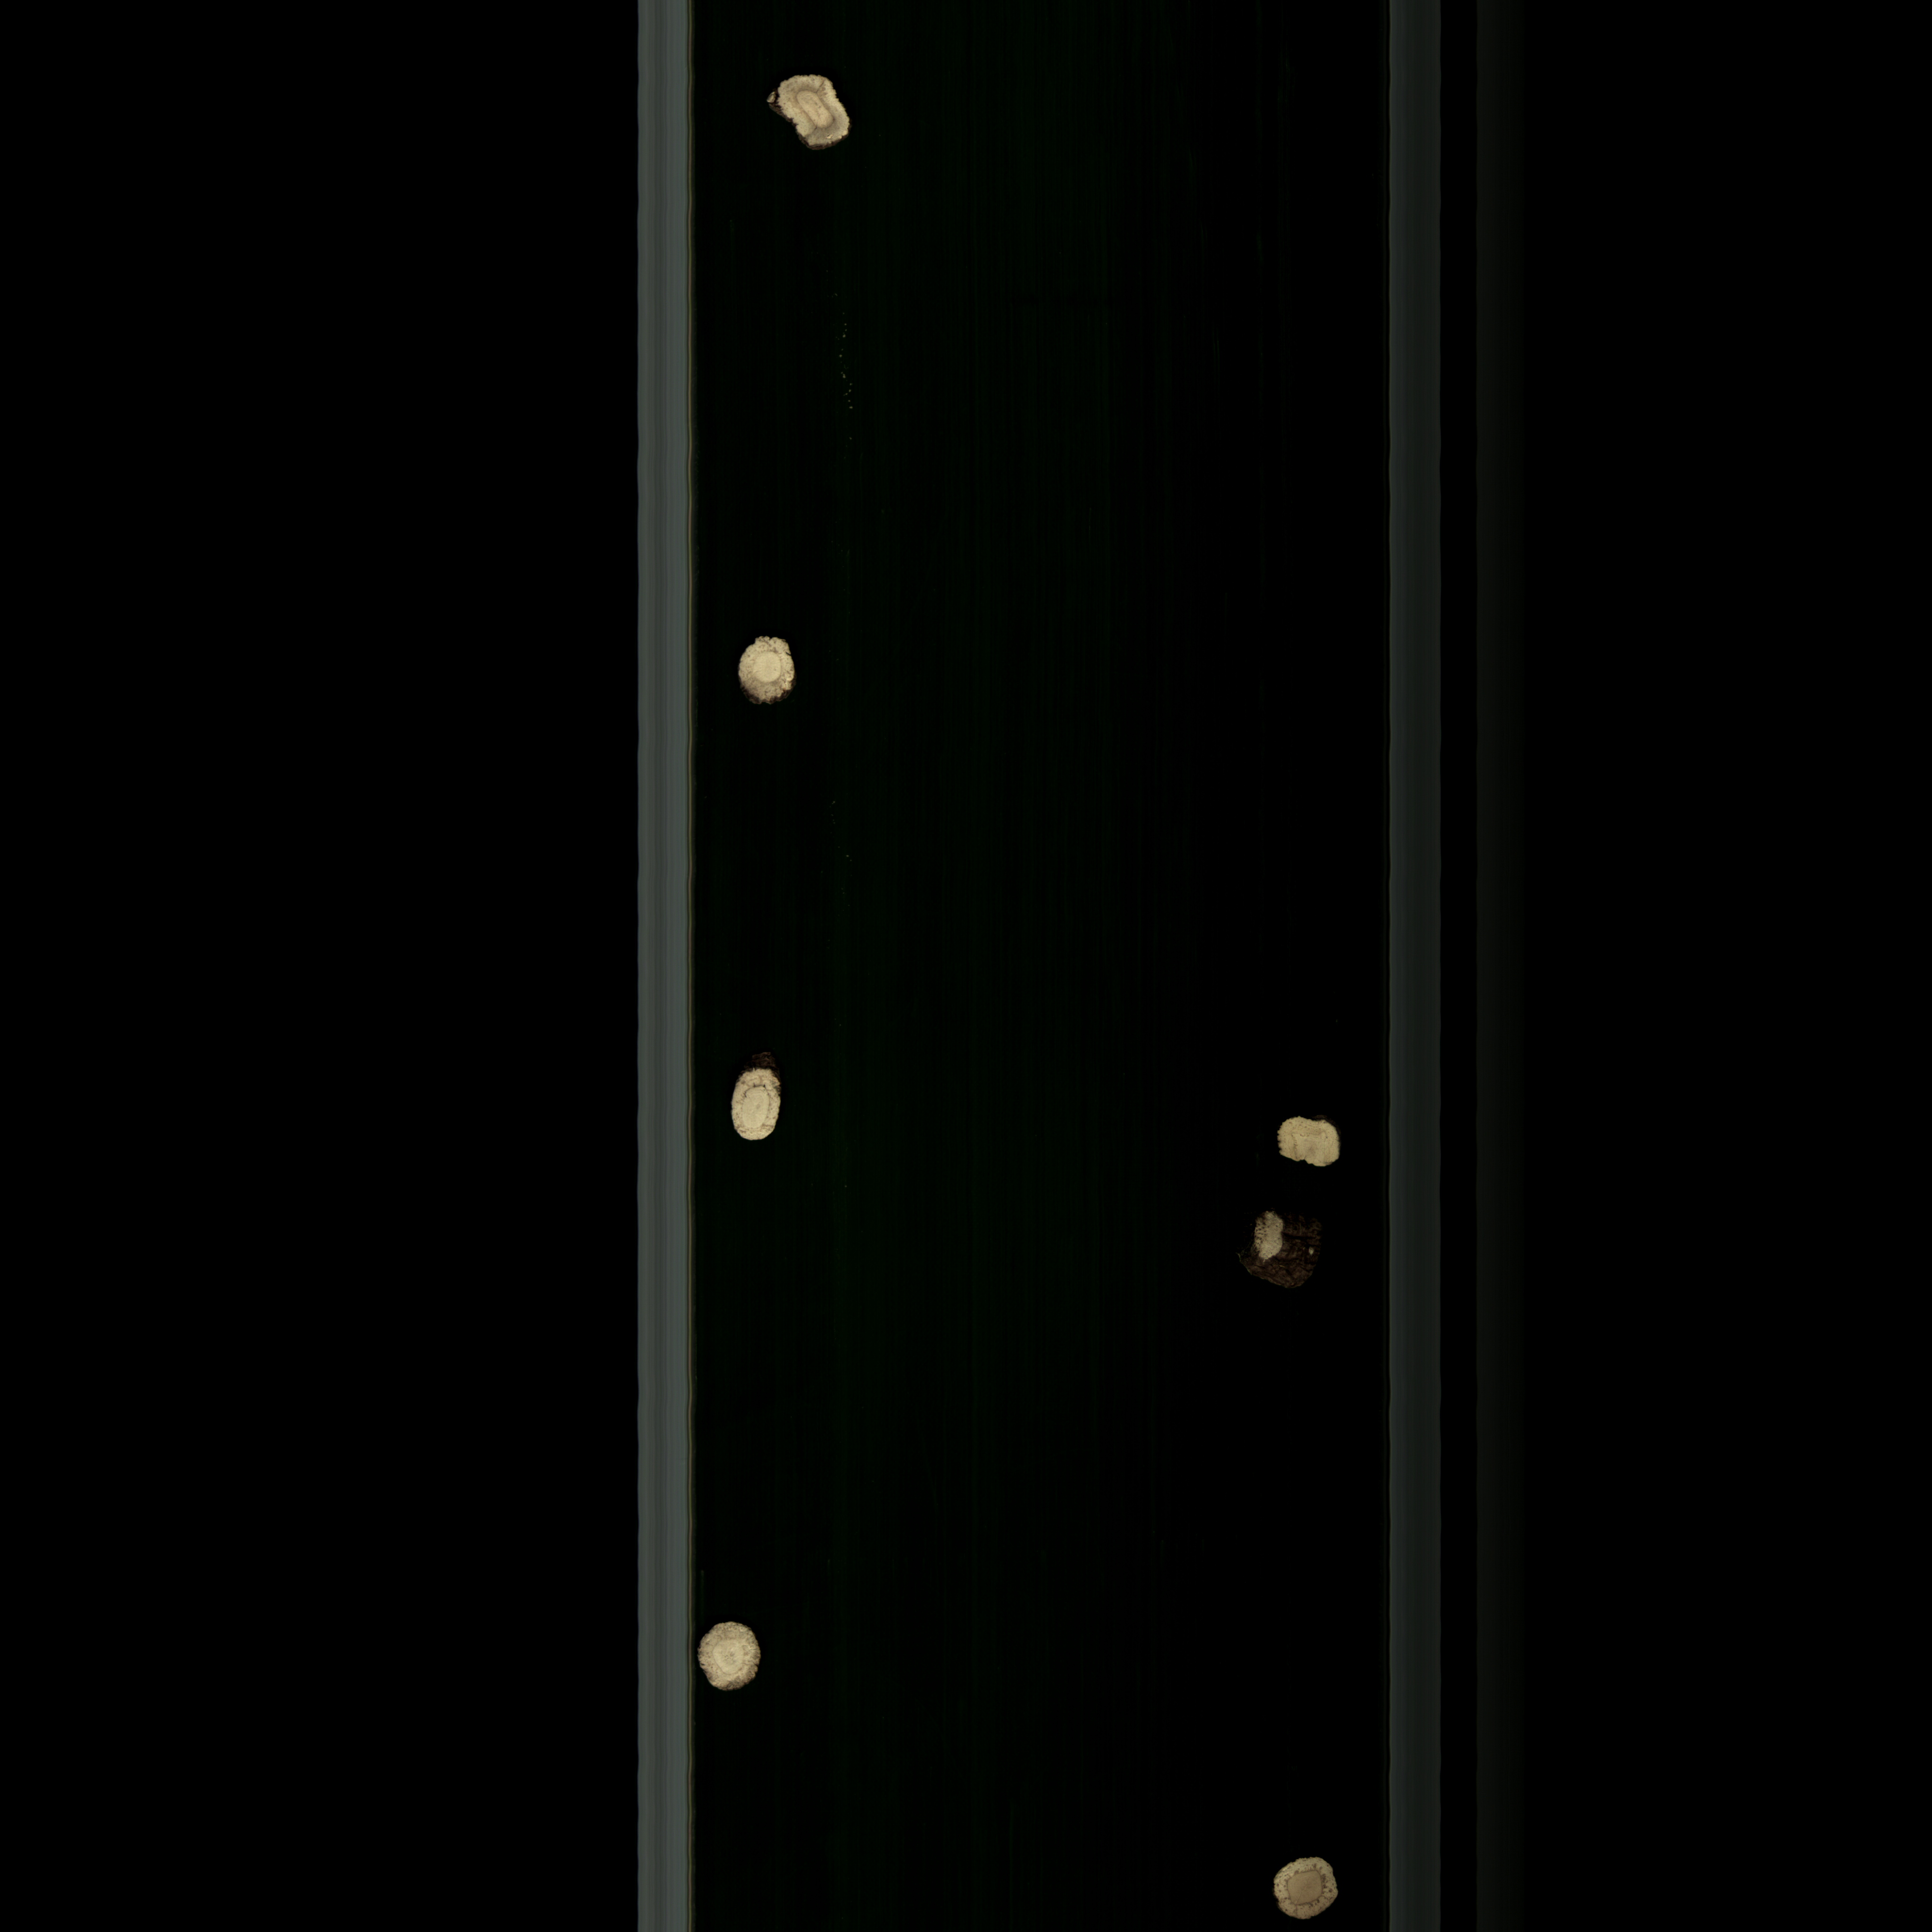bark: (1228, 1200, 1352, 1309)
debris: (1261, 1111, 1371, 1177)
moldy: (1233, 1842, 1353, 1927), (754, 67, 869, 152)
